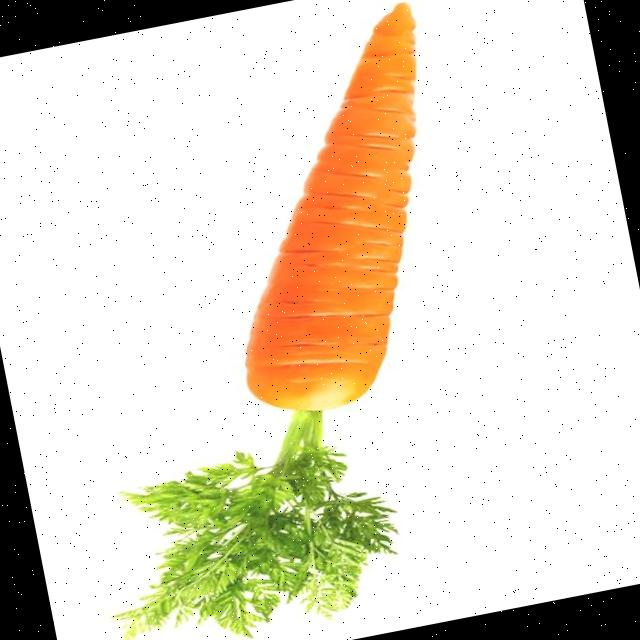carrot: (118, 3, 415, 638)
